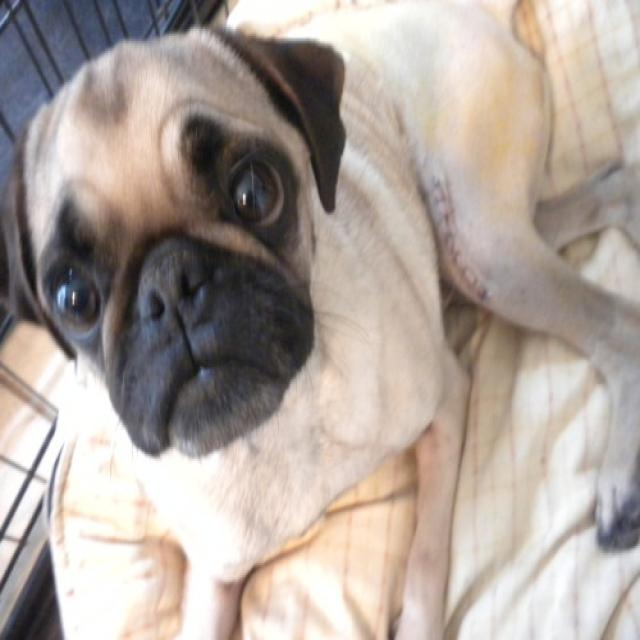pug_dog: (2, 20, 359, 478)
